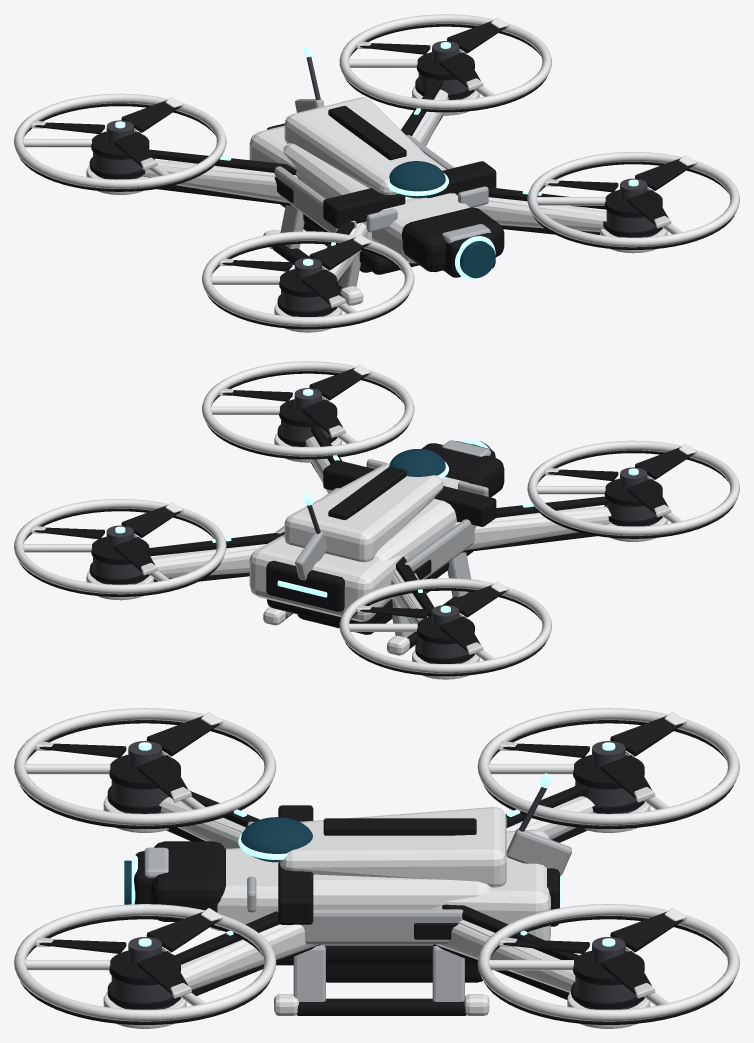
The model's file is QuadcopterDrone.fbx.
3 renders of one model, top to bottom at view 1: azimuth 30°, elevation 25°; view 2: azimuth 150°, elevation 25°; view 3: azimuth 270°, elevation 25°, orthographic. The views are drawn at different scales.
Visible parts, largest first — view 1: Body_Canopy, Guard_FR_Ring, Guard_RL_Ring, Guard_FL_Ring, Guard_RR_Ring, Body_Hull, Body_NoseFairing, Rotor_FL, Rotor_RL, Rotor_RR, Rotor_FR, Body_HullShoulder (+33 smaller); view 2: Body_Canopy, Body_Hull, Guard_RR_Ring, Guard_FL_Ring, Guard_RL_Ring, Guard_FR_Ring, Body_RearVent, Rotor_FR, Rotor_RR, Rotor_FL, Rotor_RL, Body_HullShoulder (+32 smaller); view 3: Body_Canopy, Body_Hull, Guard_FL_Ring, Guard_FR_Ring, Guard_RL_Ring, Guard_RR_Ring, Body_HullShoulder, Body_SidePod_L, Body_NoseFairing, Rotor_FR, Rotor_RR, Rotor_FL (+47 smaller).
Part boxes in pixels (x1=…): Body_Canopy: x1=284, y1=97, x2=438, y2=194; Guard_FR_Ring: x1=202, y1=231, x2=414, y2=326; Guard_RL_Ring: x1=339, y1=14, x2=551, y2=109; Guard_FL_Ring: x1=527, y1=152, x2=739, y2=247; Guard_RR_Ring: x1=14, y1=93, x2=226, y2=188; Body_Hull: x1=249, y1=125, x2=469, y2=263; Body_NoseFairing: x1=402, y1=207, x2=504, y2=272; Rotor_FL: x1=544, y1=155, x2=696, y2=228; Rotor_RL: x1=356, y1=17, x2=508, y2=90; Rotor_RR: x1=31, y1=97, x2=183, y2=170; Rotor_FR: x1=219, y1=234, x2=371, y2=307; Body_HullShoulder: x1=283, y1=143, x2=446, y2=240; Body_Canopy: x1=284, y1=464, x2=443, y2=562; Body_Hull: x1=249, y1=477, x2=467, y2=621; Guard_RR_Ring: x1=339, y1=578, x2=551, y2=673; Guard_FL_Ring: x1=202, y1=361, x2=414, y2=456; Guard_RL_Ring: x1=14, y1=499, x2=226, y2=594; Guard_FR_Ring: x1=527, y1=440, x2=739, y2=535; Body_RearVent: x1=266, y1=560, x2=344, y2=611; Rotor_FR: x1=544, y1=444, x2=696, y2=517; Rotor_RR: x1=356, y1=581, x2=508, y2=654; Rotor_FL: x1=219, y1=364, x2=371, y2=437; Rotor_RL: x1=31, y1=502, x2=183, y2=575; Body_HullShoulder: x1=283, y1=498, x2=456, y2=560; Body_Canopy: x1=279, y1=807, x2=506, y2=887; Body_Hull: x1=210, y1=829, x2=550, y2=940; Guard_FL_Ring: x1=14, y1=904, x2=276, y2=1021; Guard_FR_Ring: x1=14, y1=708, x2=276, y2=825; Guard_RL_Ring: x1=477, y1=904, x2=739, y2=1021; Guard_RR_Ring: x1=477, y1=708, x2=739, y2=825; Body_HullShoulder: x1=313, y1=874, x2=490, y2=945; Body_SidePod_L: x1=276, y1=909, x2=463, y2=944; Body_NoseFairing: x1=151, y1=841, x2=225, y2=921; Rotor_FR: x1=35, y1=712, x2=222, y2=802; Rotor_RR: x1=499, y1=712, x2=686, y2=802; Rotor_FL: x1=35, y1=908, x2=222, y2=998.
Bounding box in the file's own units: 0.6264 × 0.1923 × 0.6264.
